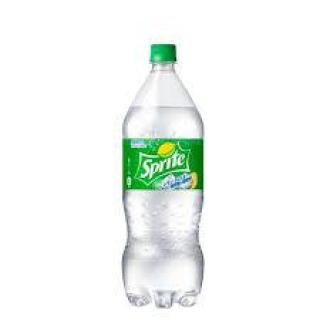Plastic-bottle: (121, 42, 208, 311)
